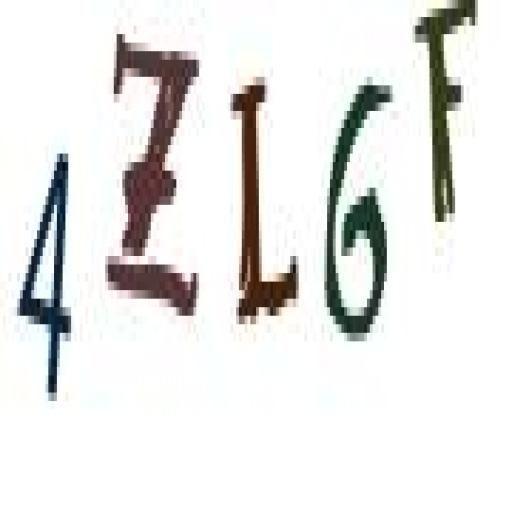4: (13, 132, 84, 418)
6: (320, 66, 398, 352)
F: (410, 0, 478, 245)
L: (225, 78, 305, 356)
Z: (105, 19, 202, 340)
